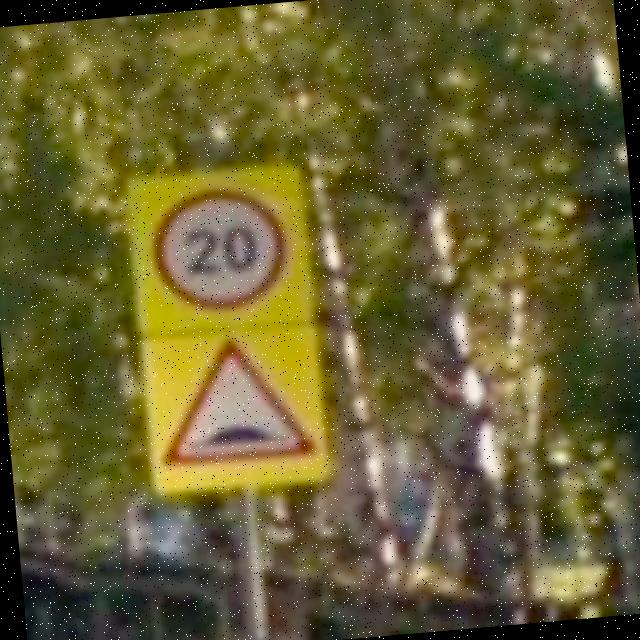Ograniczenie predkosci do 20: (145, 181, 291, 316)
